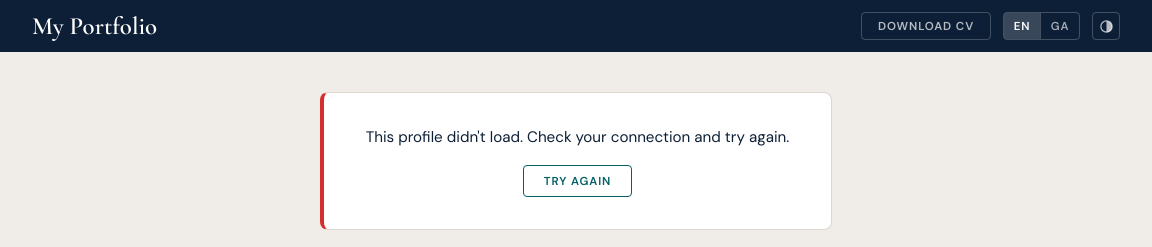
Test case: App › theme switcher (UX-2) › exposes all 5 palettes as radios when opened
The image size is (1152, 247).
Click the button named "Theme".
click(1106, 26)  # box top-left (1092, 12), bottom-right (1120, 40)
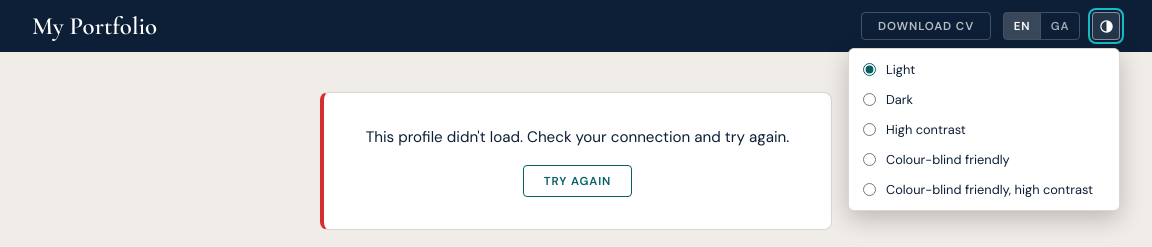
Result: the number of radio buttons is 5 at top-left (863, 63), bottom-right (876, 76); top-left (863, 93), bottom-right (876, 106); top-left (863, 123), bottom-right (876, 136); top-left (863, 153), bottom-right (876, 166); top-left (863, 183), bottom-right (876, 196)
Result: the radio button labelled "Light" is shown at top-left (863, 63), bottom-right (876, 76)
Result: the radio button labelled "Dark" is shown at top-left (863, 93), bottom-right (876, 106)
